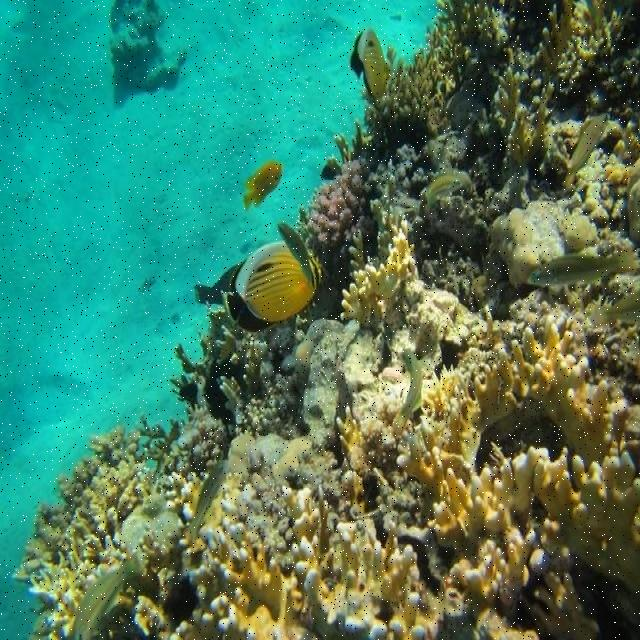fish: (226, 241, 327, 333), (74, 554, 143, 638), (563, 115, 610, 189), (190, 460, 230, 545), (529, 256, 626, 285), (351, 29, 388, 98), (278, 221, 313, 286), (395, 349, 422, 431), (591, 289, 638, 327), (244, 163, 281, 210), (197, 263, 238, 303), (428, 175, 463, 207)
reefs: (202, 312, 638, 638), (10, 424, 163, 637), (341, 217, 424, 330), (307, 156, 378, 257)
